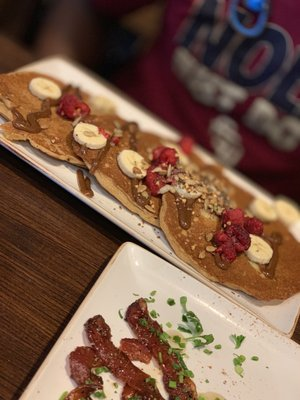curry: (0, 61, 299, 400)
